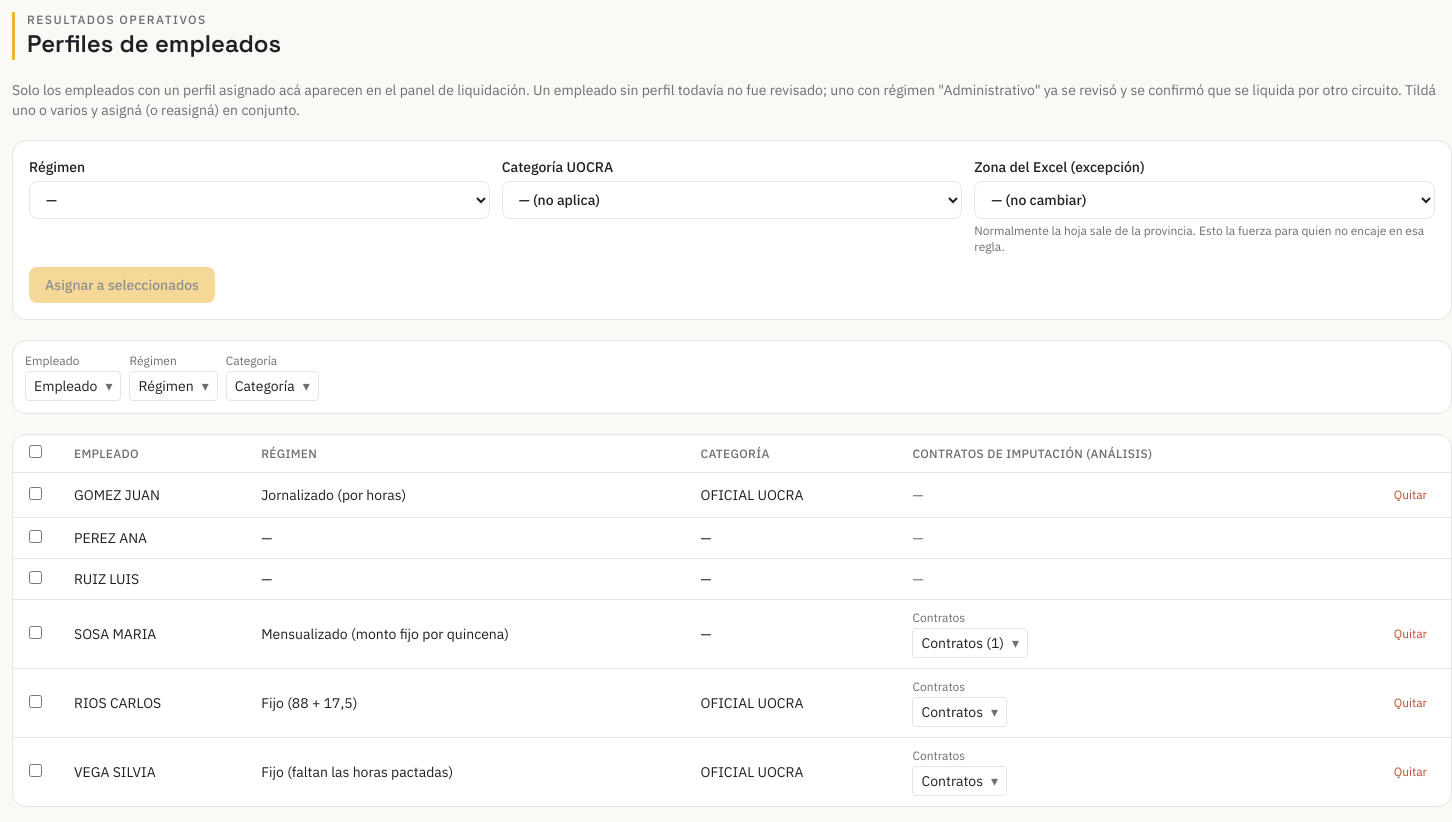
it: PerfilesLiquidacionPage › "seleccionar todos" tilda todos los filtrados
The width and height of the screenshot is (1452, 822).
Click the checkbox named "Seleccionar todos" at (36,452), box [29,445,42,458]
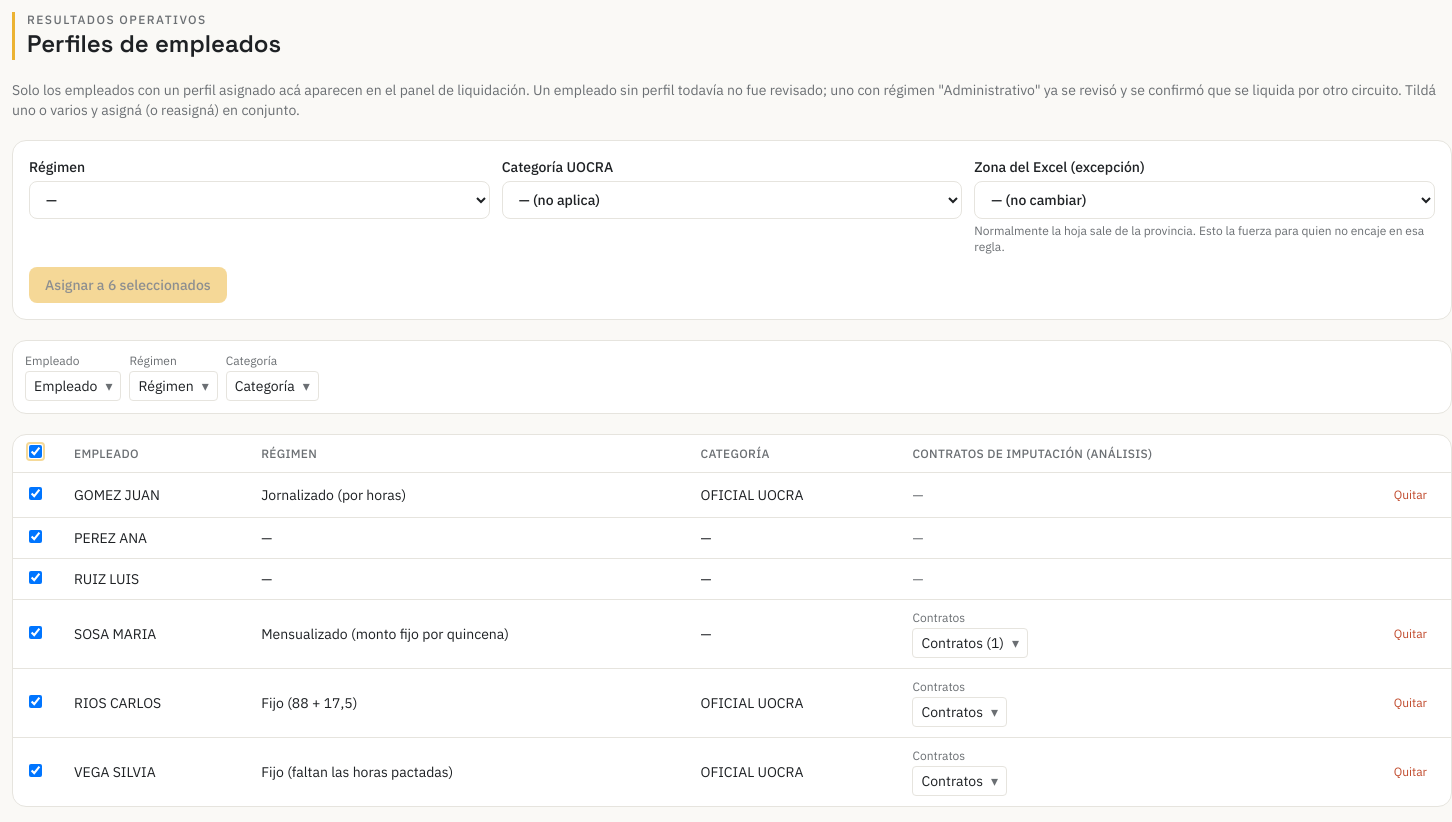
expect the checkbox named "Seleccionar GOMEZ JUAN" is checked: met, box [29,487,42,500]
expect the checkbox named "Seleccionar PEREZ ANA" is checked: met, box [29,530,42,543]
expect the checkbox named "Seleccionar RUIZ LUIS" is checked: met, box [29,571,42,584]
